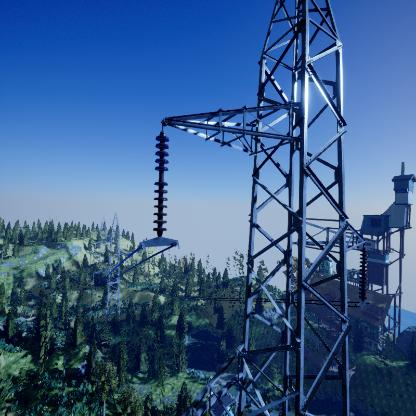insulator: (151, 135, 170, 233), (359, 248, 367, 302)
tower: (92, 213, 135, 318)
